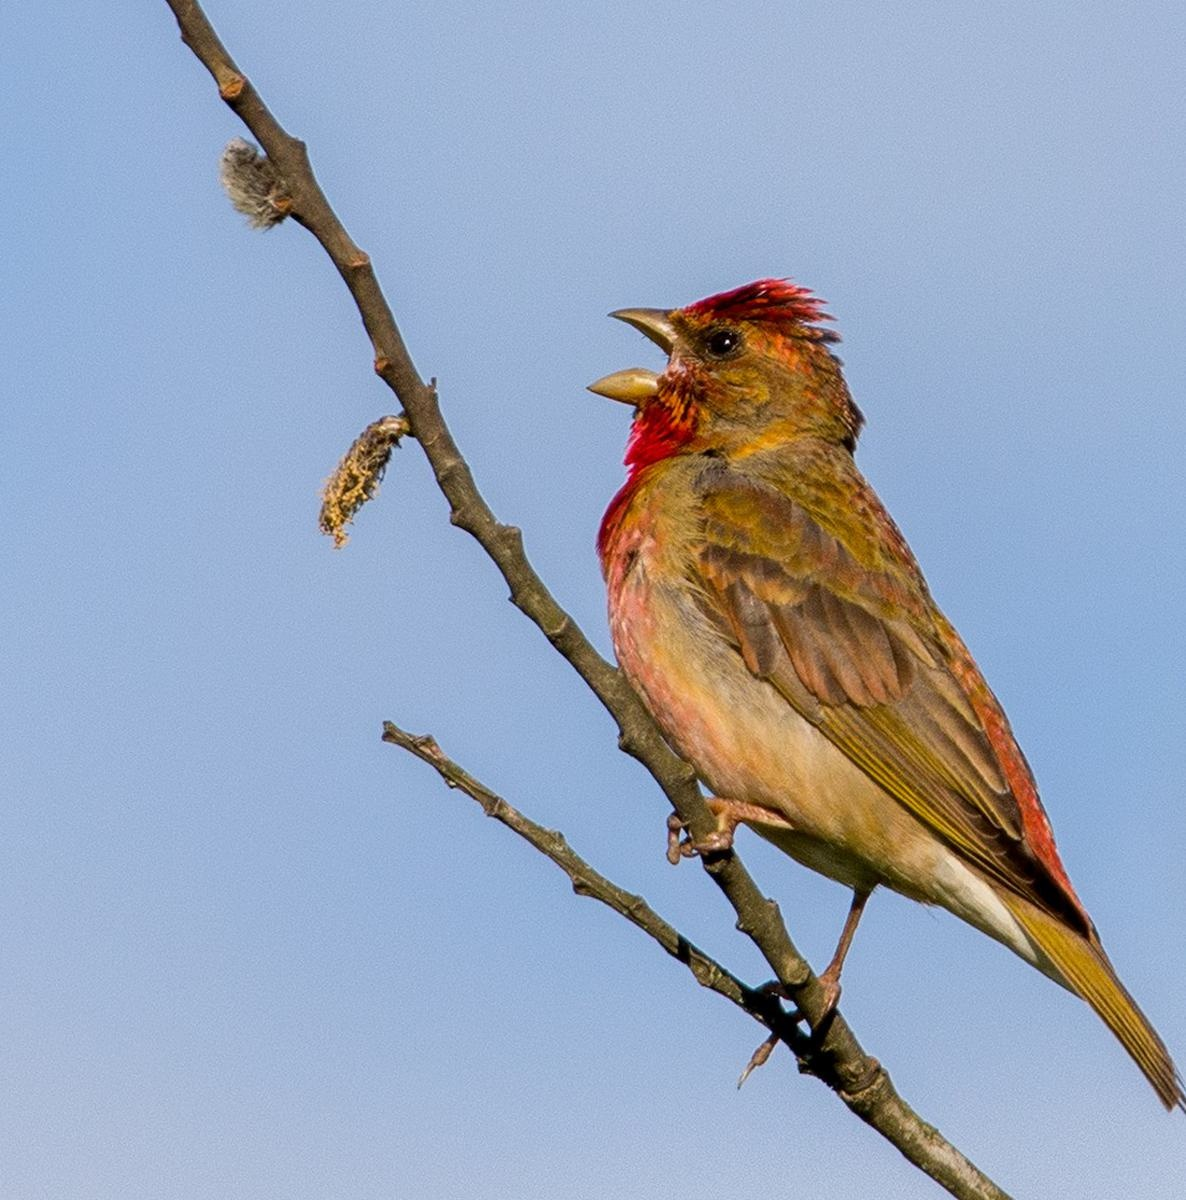rosefinch: (571, 254, 1093, 1014)
